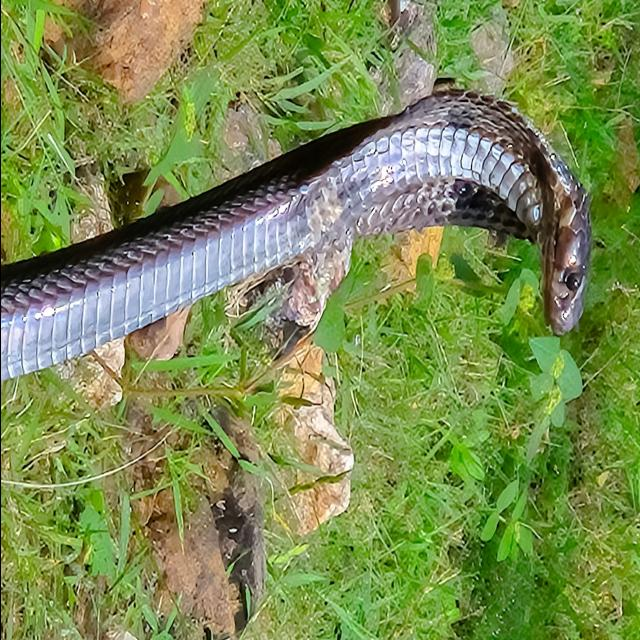snake: (1, 0, 594, 490)
